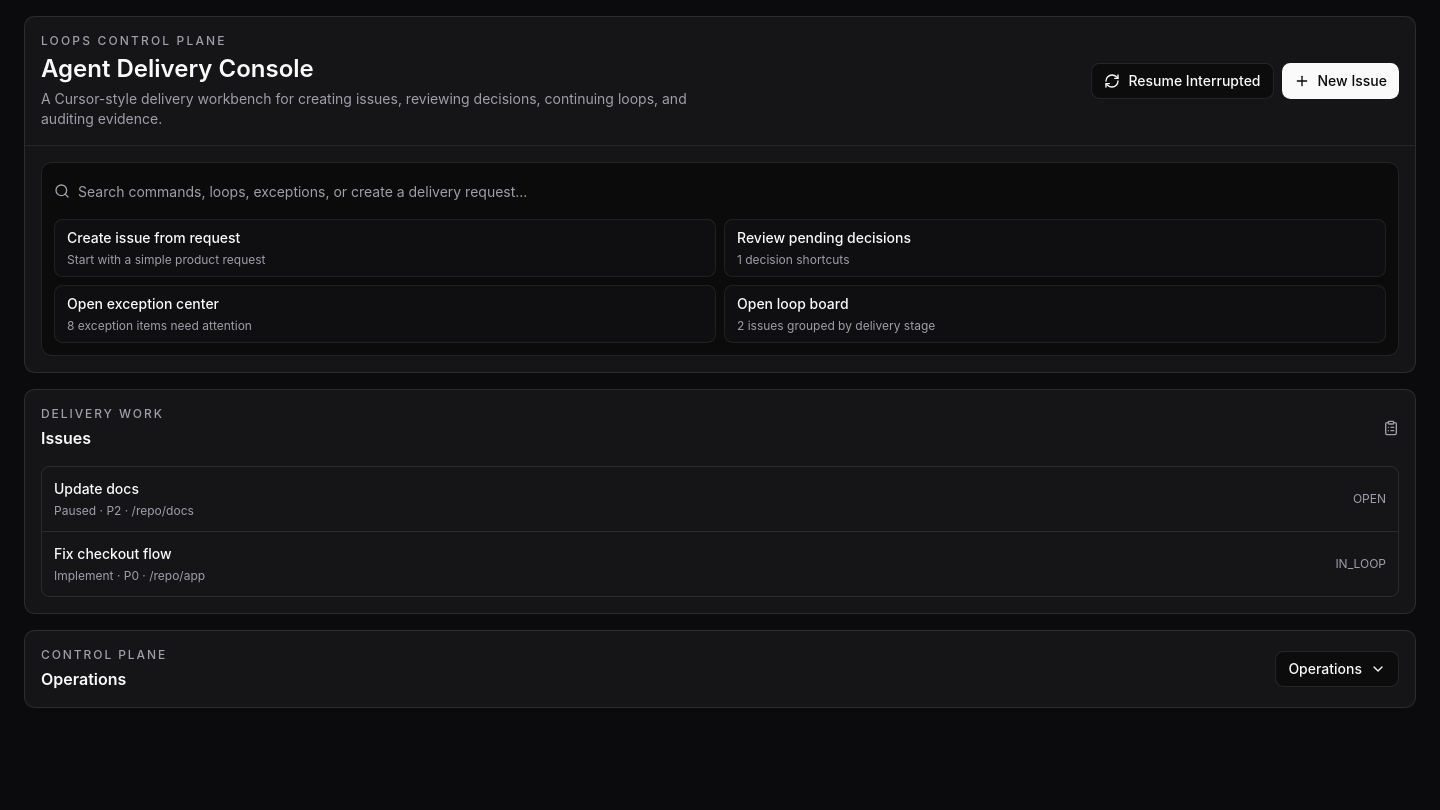
Test: LoopsPage › filters issue rows by command title or issue id
Replace the text in the field labelled "Search commands, loops, exceptions, or create a delivery request..." with "update docs" at (732, 191), box x1=78 y1=175 x2=1386 y2=207
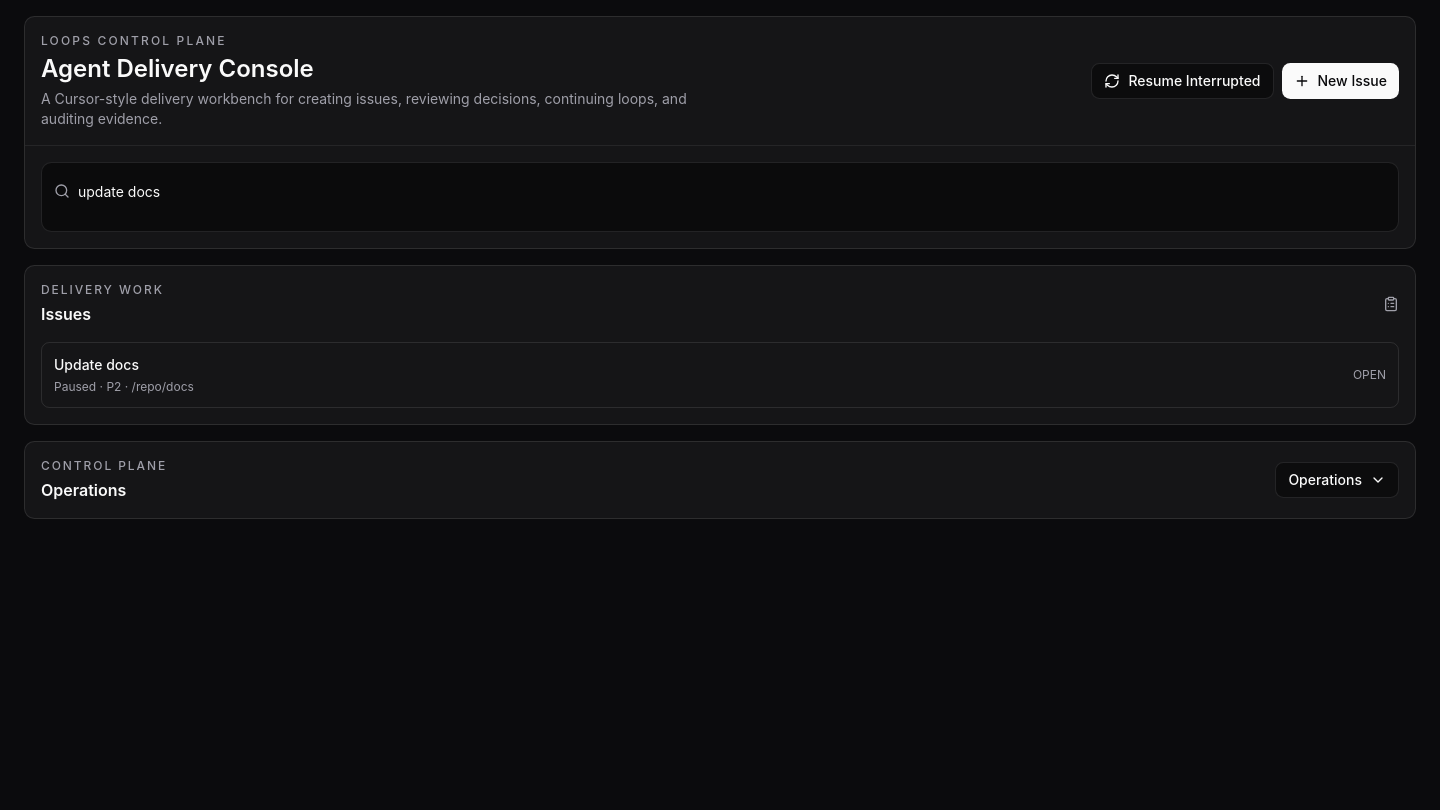
Expected: the text "Update docs" is shown, x1=54 y1=356 x2=139 y2=373
Expected: the link "Fix checkout flow" is gone
Replace the text in the field named "Search commands, loops, exceptions, or create a delivery request..." with "ISSUE-1" at (732, 191), box x1=78 y1=175 x2=1386 y2=207
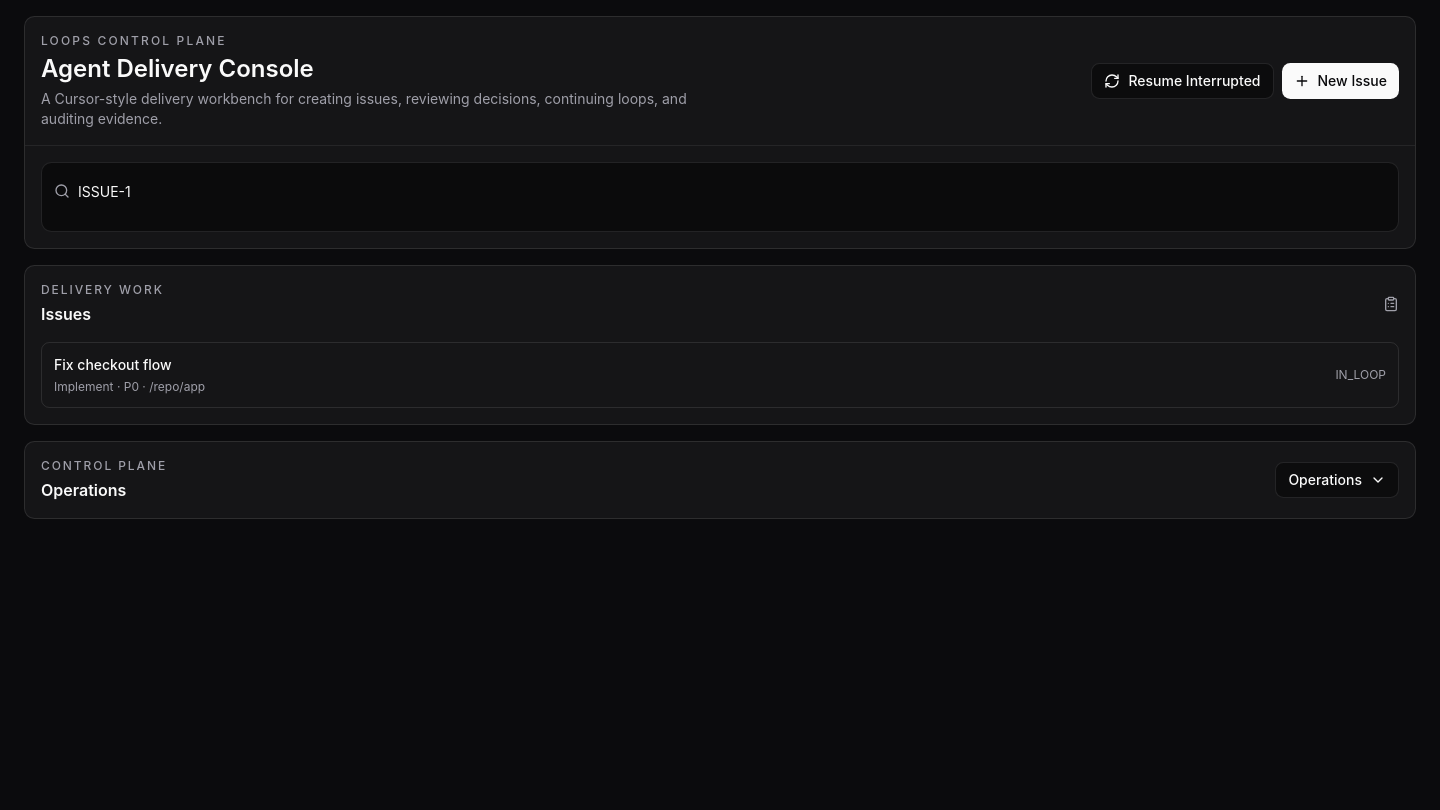
Expected: the text "Fix checkout flow" is shown, x1=54 y1=356 x2=172 y2=373
Expected: the link "Update docs" is gone
